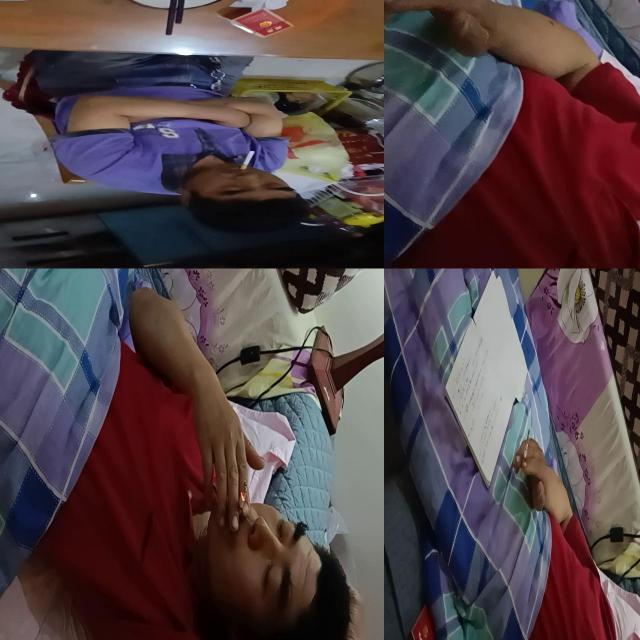cigarette: (520, 429, 530, 479), (238, 481, 248, 516), (240, 151, 256, 170), (384, 0, 391, 22)
